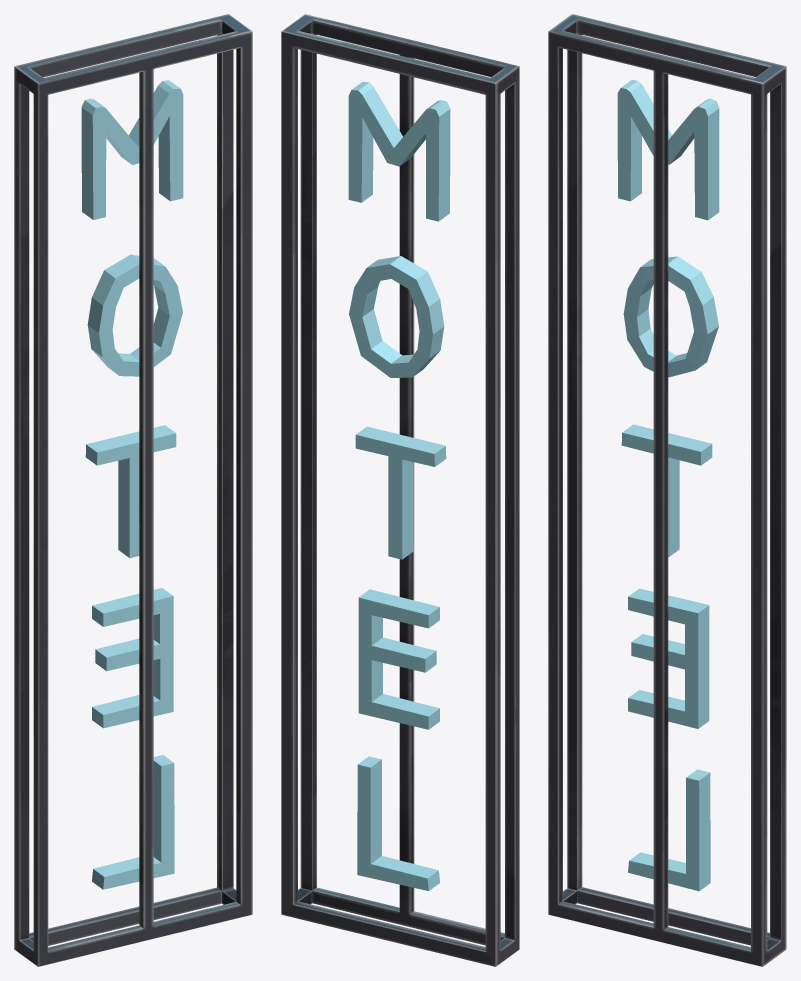
The model's file is Props-TextBanner-Motel_ALL.fbx.
3 views of the same model, side by side, from view 1: azimuth 30°, elevation 25°; view 2: azimuth 150°, elevation 25°; view 3: azimuth 330°, elevation 25° (orthographic).
Visible parts, largest first — view 1: Props-TextBanner-Motel_ALL; view 2: Props-TextBanner-Motel_ALL; view 3: Props-TextBanner-Motel_ALL.
Boxes of the visible parts, x1,y1,x2,y2 form: Props-TextBanner-Motel_ALL: (14, 14, 252, 966); Props-TextBanner-Motel_ALL: (281, 14, 519, 966); Props-TextBanner-Motel_ALL: (548, 14, 786, 966).
Size of the model in its own units: 53.71 by 211 by 10.4.
